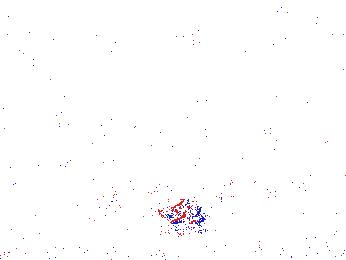flame jellyfish: (156, 169, 236, 228), (56, 150, 125, 204), (18, 158, 74, 209)
